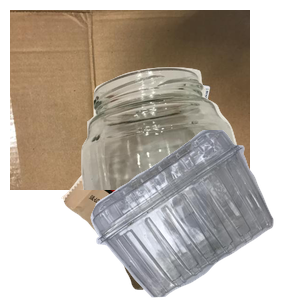cardboard: (10, 10, 250, 190)
glass: (74, 65, 300, 245)
plastic: (88, 130, 300, 300)
trash: (59, 124, 273, 300)
